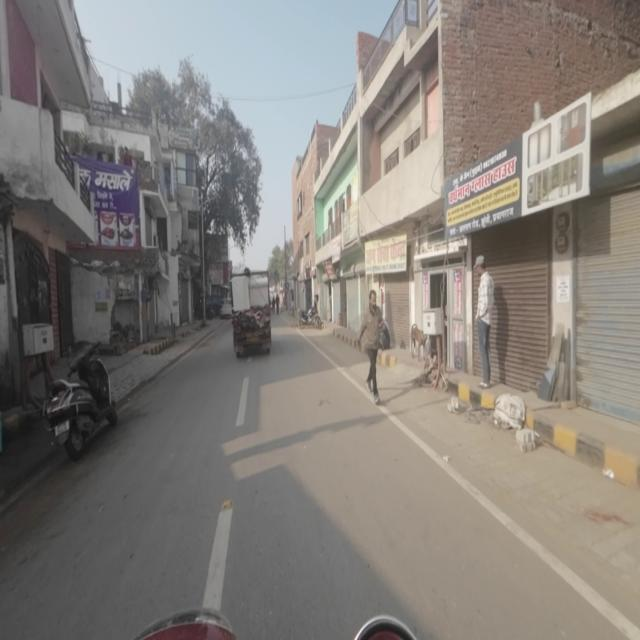Garbage: (494, 388, 525, 433), (514, 425, 540, 452), (446, 394, 465, 417)
